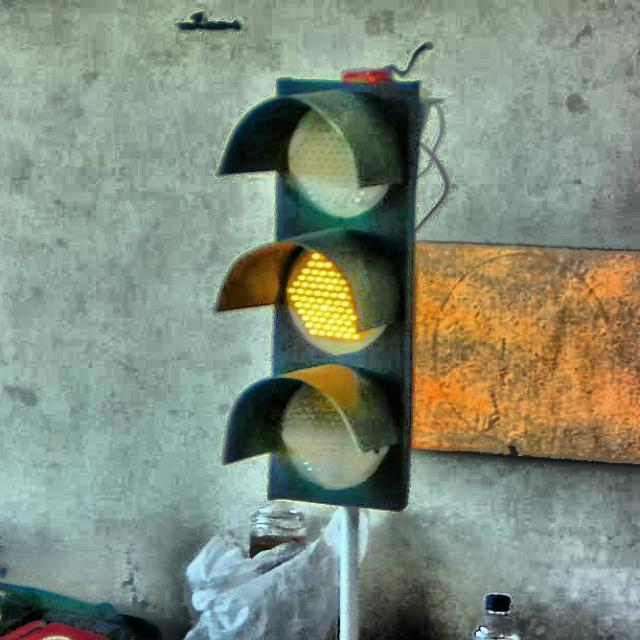yellow: (217, 80, 420, 504)
